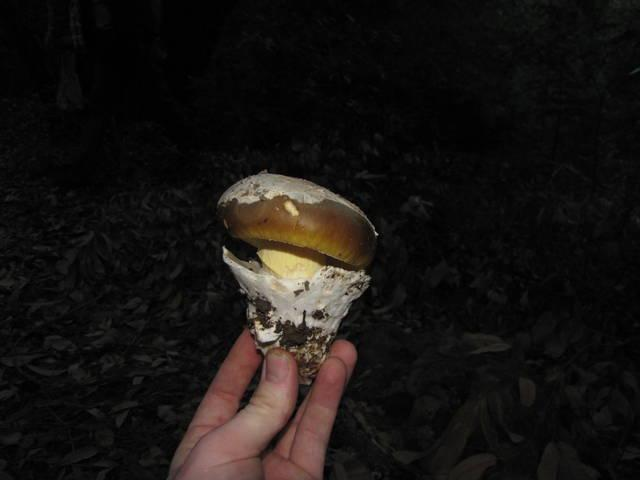Edible Mushroom: (214, 168, 379, 386)
